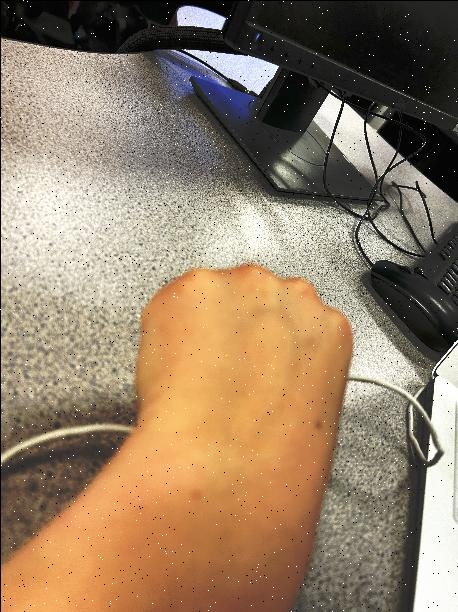Rock: (47, 229, 385, 573)
